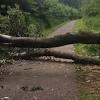Downstairs: (1, 30, 100, 49), (1, 48, 100, 65)
